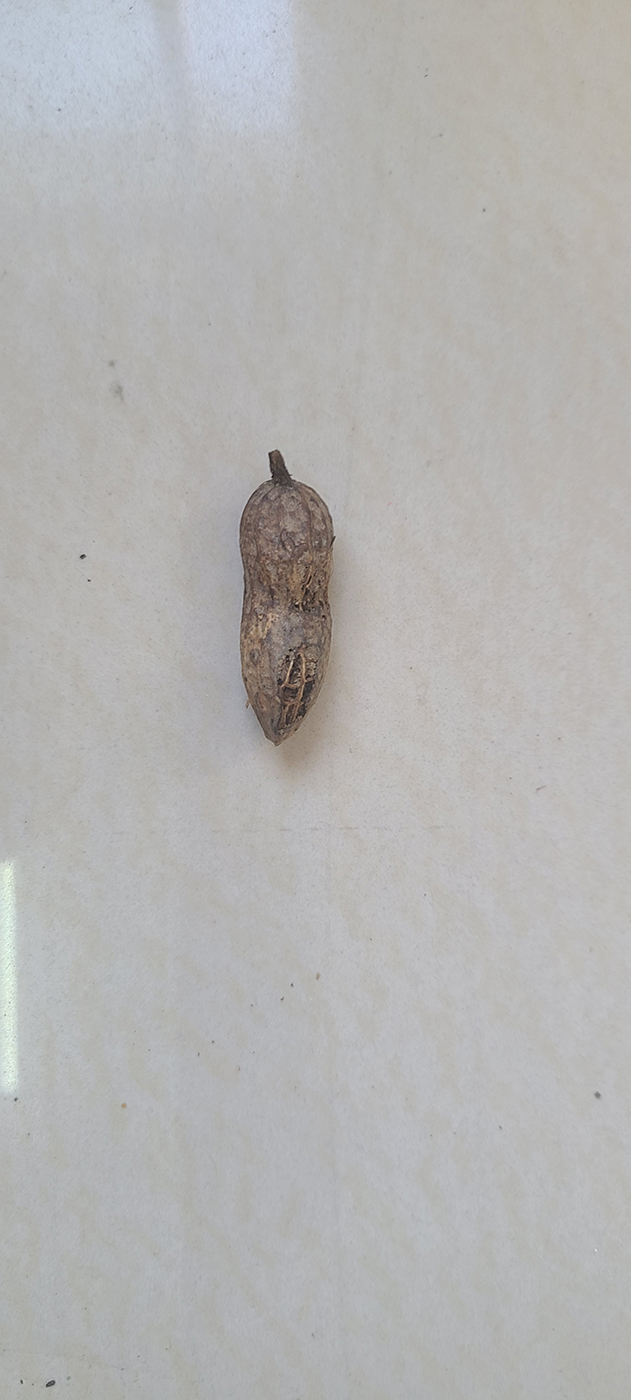l: (236, 481, 337, 742)
